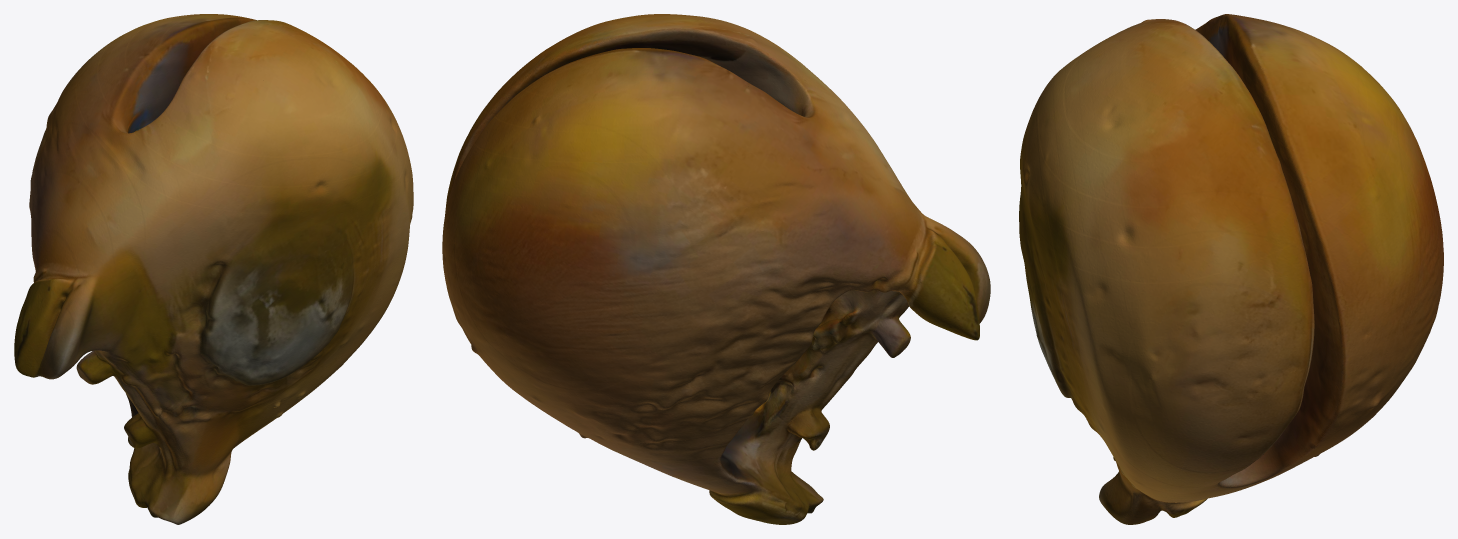
Rendered from muyu.glb.
3 views of the same model, side by side, from view 1: azimuth 30°, elevation 25°; view 2: azimuth 150°, elevation 25°; view 3: azimuth 270°, elevation 25° (orthographic). The views are drawn at different scales.
Parts seen in each view (by area): view 1: tripo_node_e1564f93-b2ac-46dc-9e41-c6af8943f823; view 2: tripo_node_e1564f93-b2ac-46dc-9e41-c6af8943f823; view 3: tripo_node_e1564f93-b2ac-46dc-9e41-c6af8943f823.
Part boxes in pixels (box(x1,y1,x2,y2)): tripo_node_e1564f93-b2ac-46dc-9e41-c6af8943f823: box(14, 14, 413, 524); tripo_node_e1564f93-b2ac-46dc-9e41-c6af8943f823: box(442, 14, 990, 524); tripo_node_e1564f93-b2ac-46dc-9e41-c6af8943f823: box(1019, 14, 1443, 524).
Bounding box in the file's own units: 100 × 101 × 74.24.
1 material, 1 textured.
